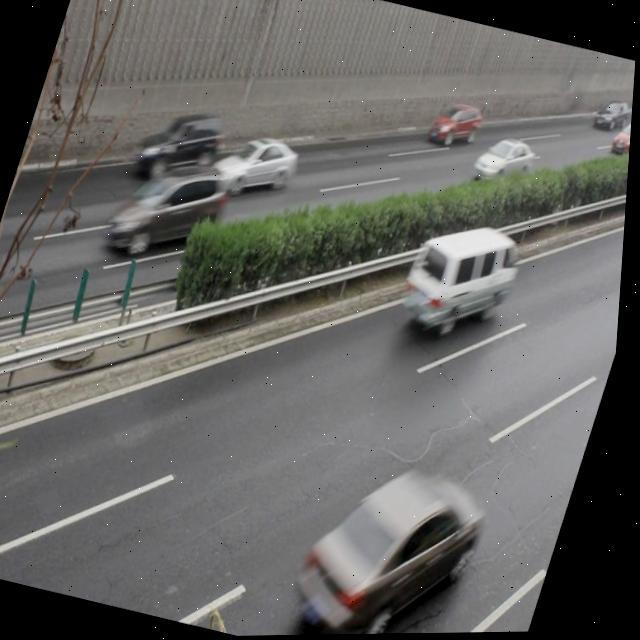car: (292, 448, 497, 636), (101, 148, 237, 272), (132, 100, 231, 193), (205, 123, 304, 207), (469, 130, 540, 194), (424, 96, 486, 154)
truck: (397, 212, 532, 348)
